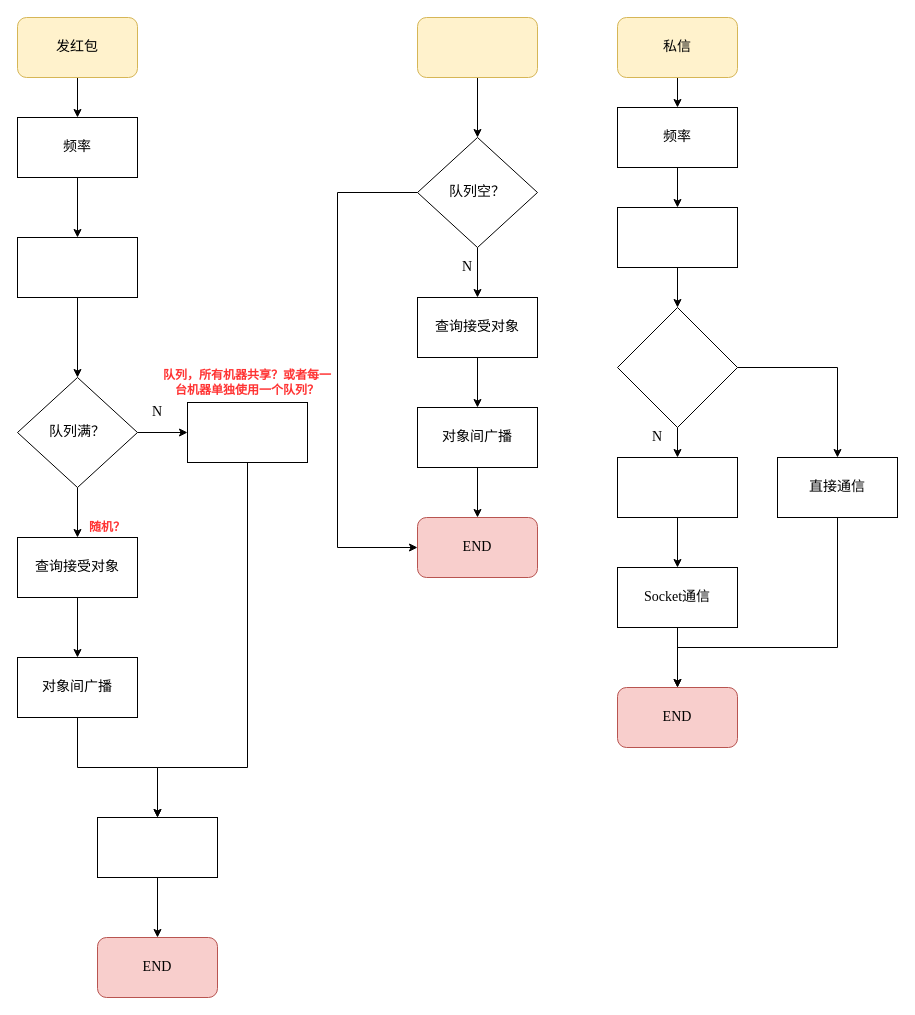
This 915x1015 diagram has some shape labels left out. The box of each missing label's shape, as (x1, y1, x2, y2) in pixels:
入队列: (186, 402, 308, 462)
同机器？: (616, 306, 738, 428)
定时任务出队: (416, 16, 538, 78)
提示成功: (96, 816, 218, 878)
查接收人Hash: (616, 206, 738, 268)
资格: (16, 236, 138, 298)
转发Peer机器: (616, 456, 738, 518)
